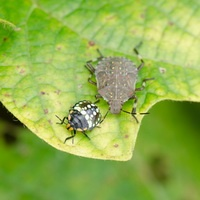insect: (85, 48, 154, 122), (55, 99, 109, 142)
